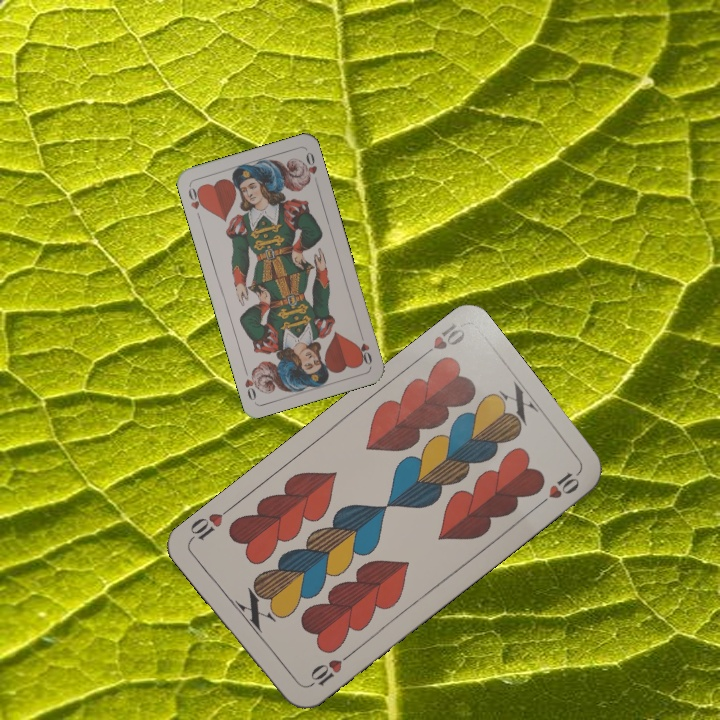H10: (414, 319, 468, 362), (303, 649, 354, 690)
HO: (184, 182, 207, 222), (354, 328, 375, 368)
